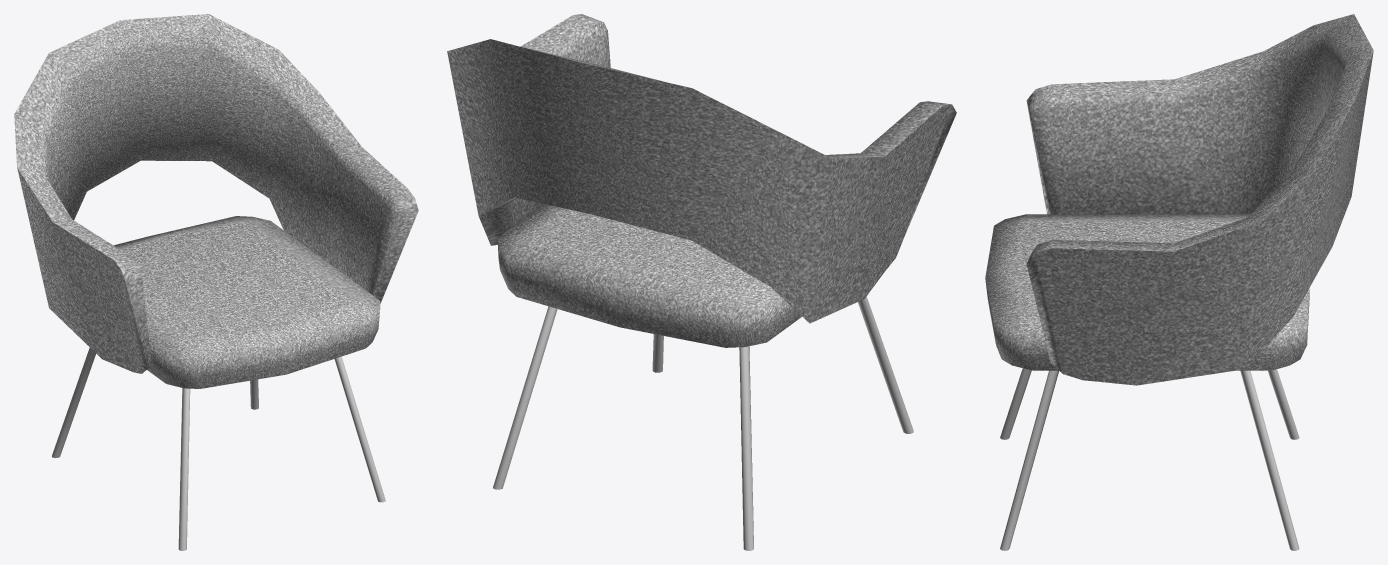
The model's file is Chair_Saarin.fbx.
3 renders of one model, left to right at view 1: azimuth 30°, elevation 25°; view 2: azimuth 150°, elevation 25°; view 3: azimuth 270°, elevation 25°, orthographic. The views are drawn at different scales.
Visible parts, largest first — view 1: Saarinen_Executive_Chair; view 2: Saarinen_Executive_Chair; view 3: Saarinen_Executive_Chair.
Part boxes in pixels (left/top/right/bottom): Saarinen_Executive_Chair: left=14, top=14, right=418, bottom=550; Saarinen_Executive_Chair: left=447, top=14, right=956, bottom=550; Saarinen_Executive_Chair: left=985, top=14, right=1373, bottom=550.
Size of the model in its own units: 77.24 by 92.38 by 73.5.
